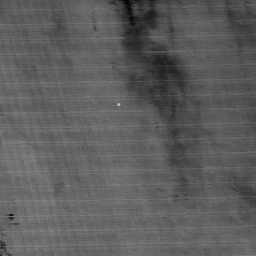Target: (115, 101, 121, 108)
